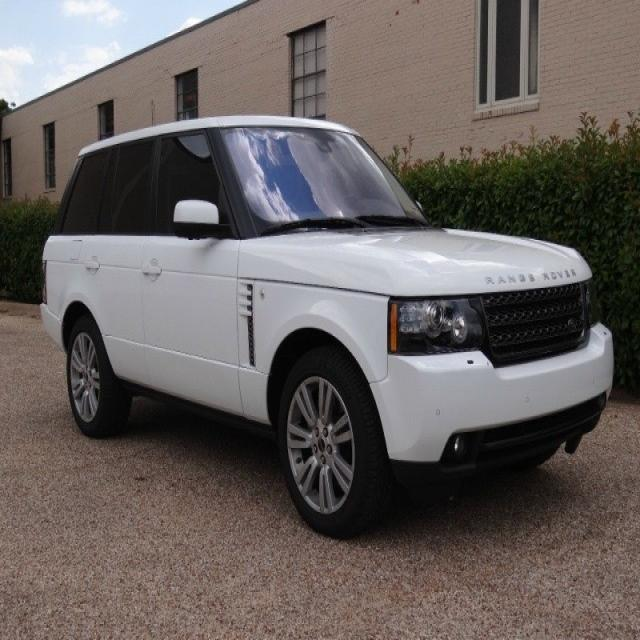car: (40, 114, 613, 538)
